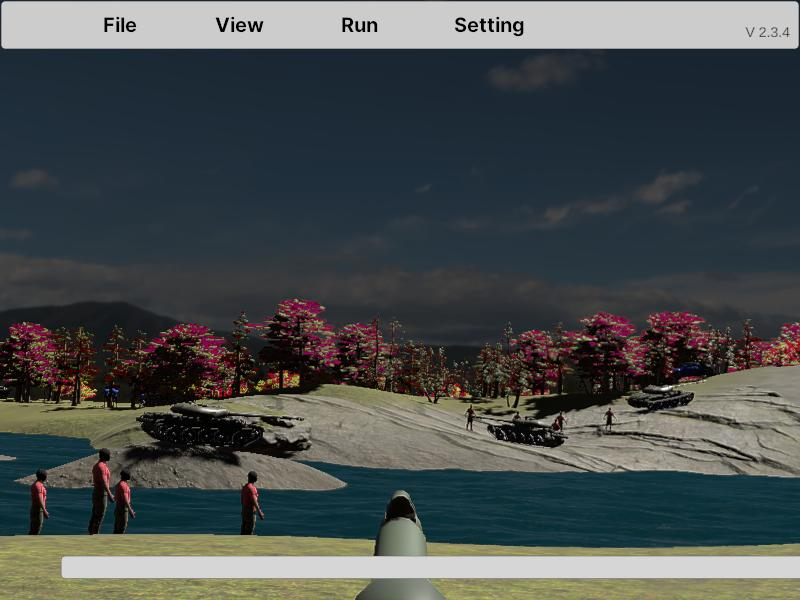Human: (88, 447, 115, 551), (241, 470, 264, 560), (114, 467, 135, 557), (31, 468, 49, 557)
Tank: (134, 400, 311, 451), (473, 413, 569, 447), (625, 380, 703, 410)
